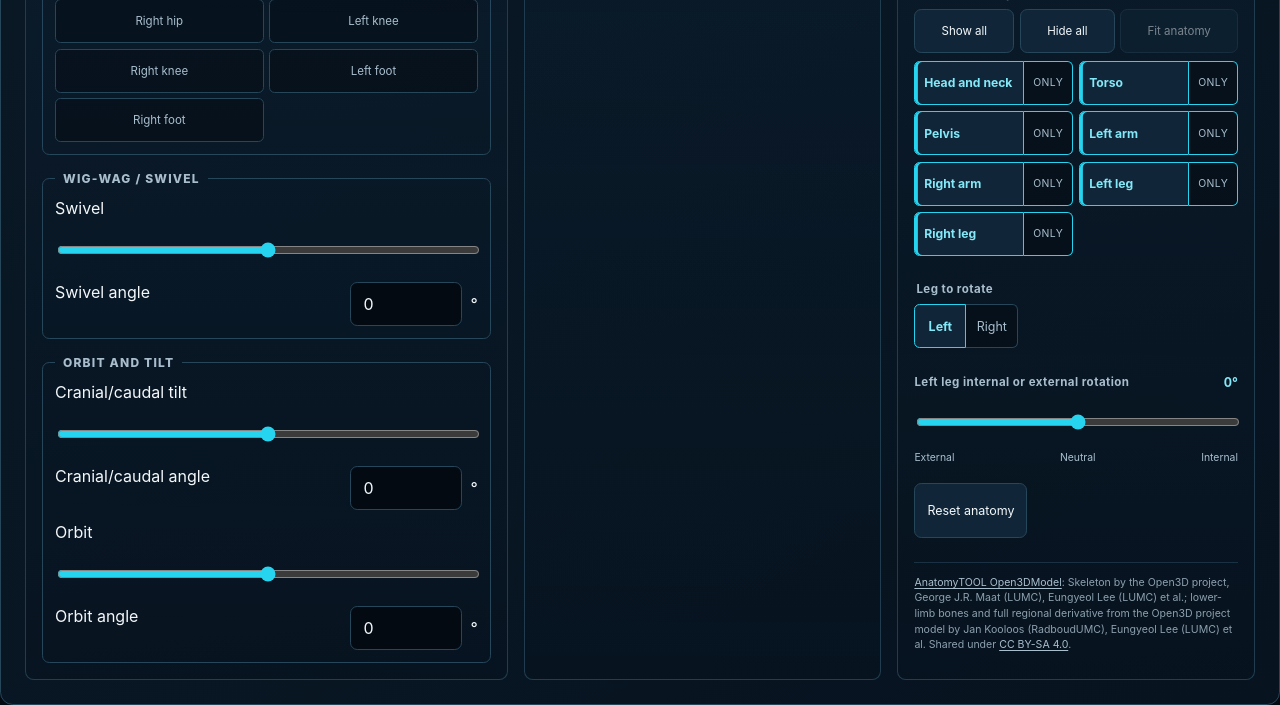
Scenario: CArmControls › supports one-degree keyboard nudges and directional five-degree snapping
(page scrolled)
Press ArrowRight in the number field labelled "Orbit angle", box [350,606,462,650]
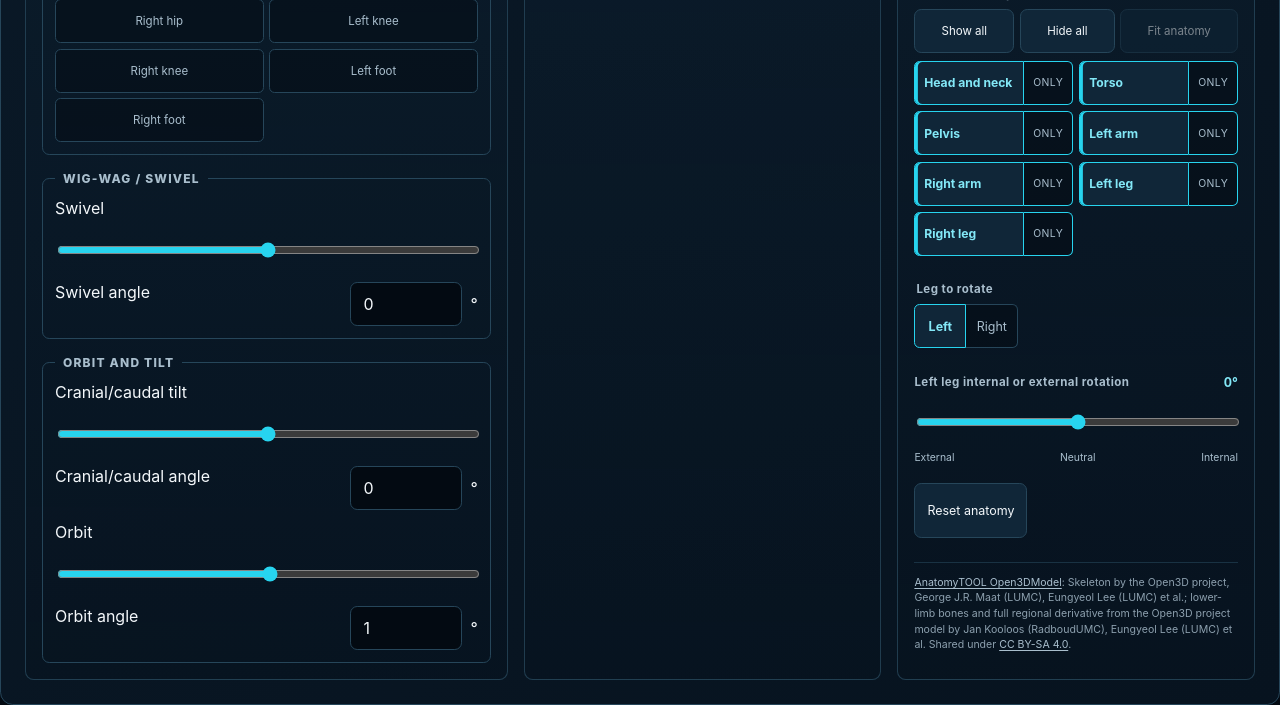
expect the number field labelled "Orbit angle" holds "1": met
Replace the text in the number field labelled "Orbit angle" with "10" at [406, 628], box [350,606,462,650]
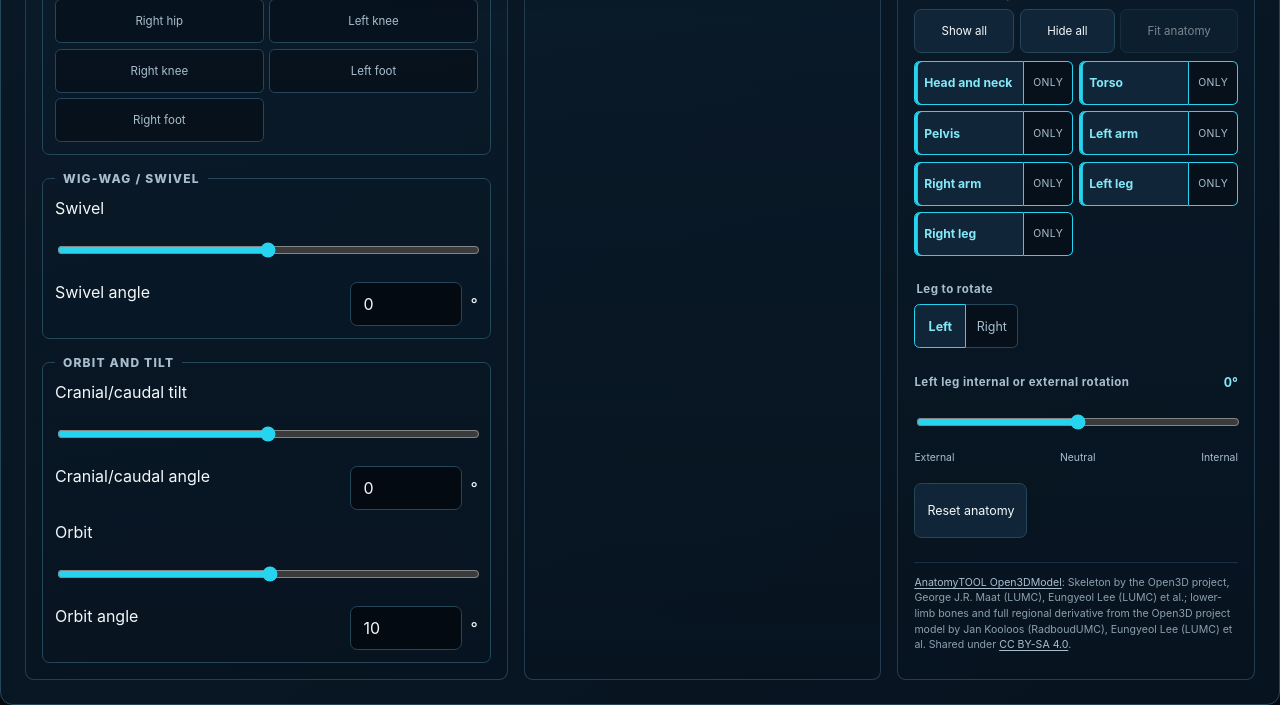
Press Enter in the number field labelled "Orbit angle", box [350,606,462,650]
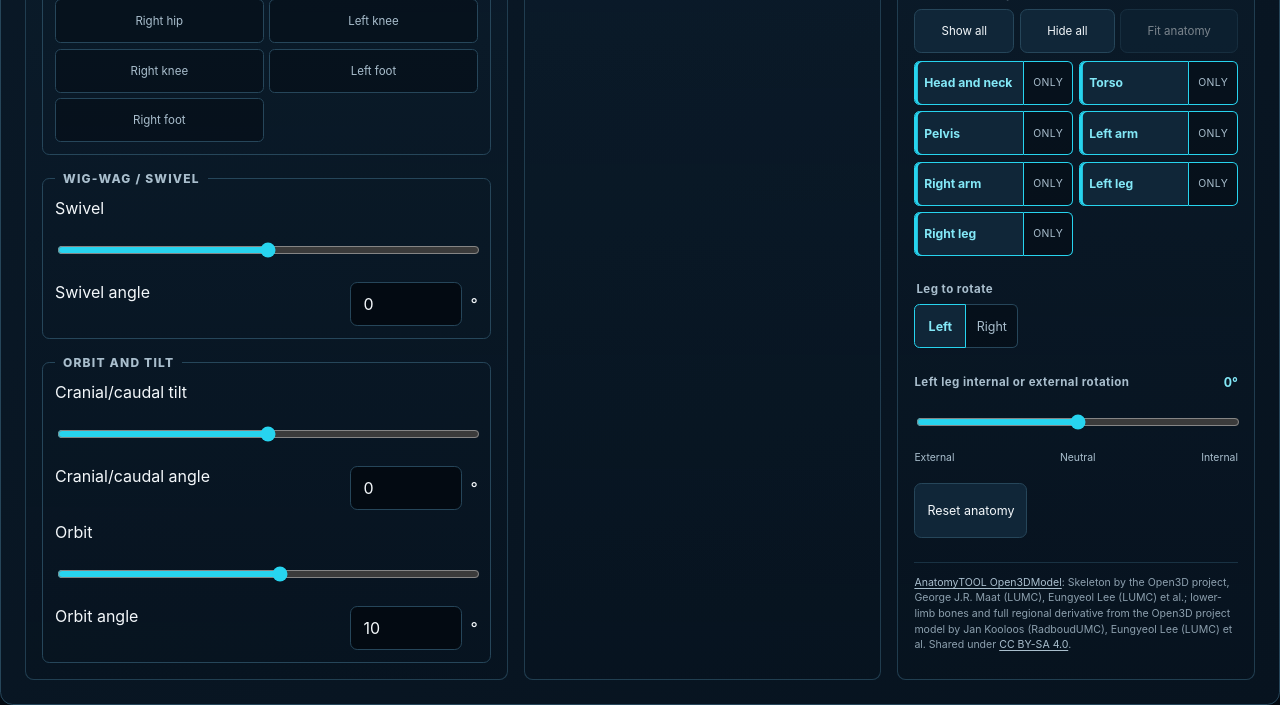
Press ArrowRight in the number field labelled "Orbit angle", box [350,606,462,650]
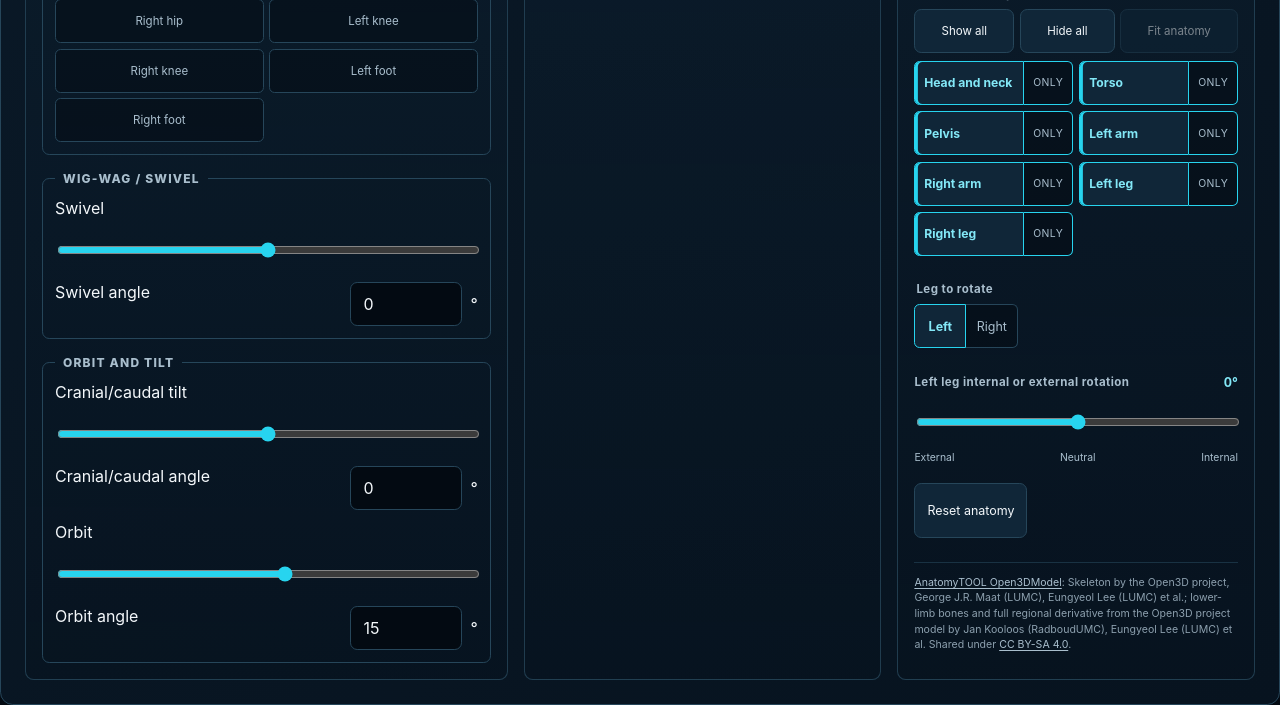
expect the number field labelled "Orbit angle" holds "15": met
Press ArrowRight in the number field labelled "Orbit angle", box [350,606,462,650]
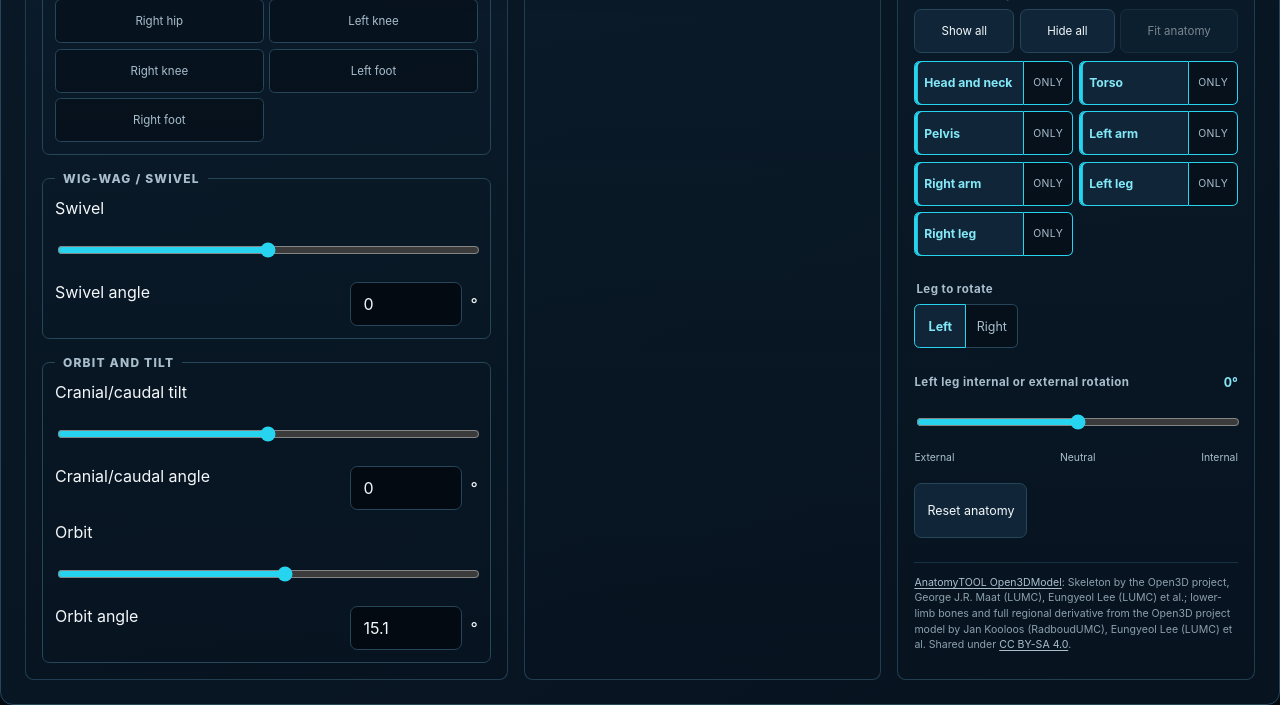
expect the number field labelled "Orbit angle" holds "15.1": met, box [350,606,462,650]
